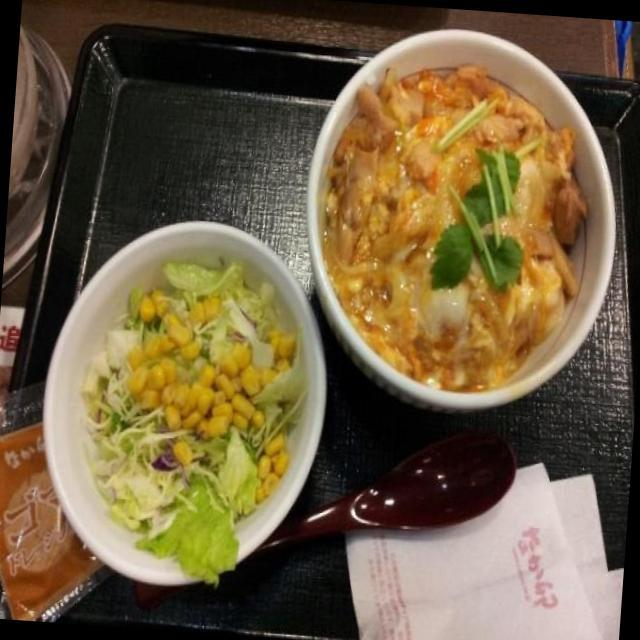Green Salad: (82, 251, 310, 536)
